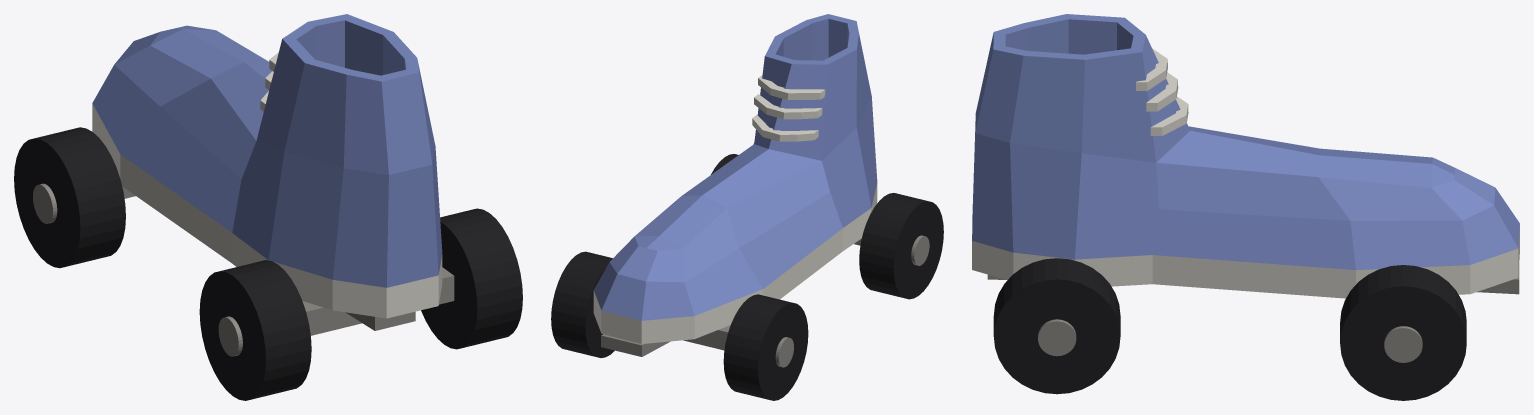
File: roller.fbx
3 views of the same model, side by side, from view 1: azimuth 30°, elevation 25°; view 2: azimuth 150°, elevation 25°; view 3: azimuth 270°, elevation 25° (orthographic). The views are drawn at different scales.
Parts seen in each view (by area): view 1: Roller; view 2: Roller; view 3: Roller.
Boxes of the visible parts, x1=… form: Roller: x1=14, y1=14, x2=522, y2=400; Roller: x1=551, y1=14, x2=943, y2=400; Roller: x1=972, y1=14, x2=1519, y2=400.
Size of the model in its own units: 261 by 274 by 458.
